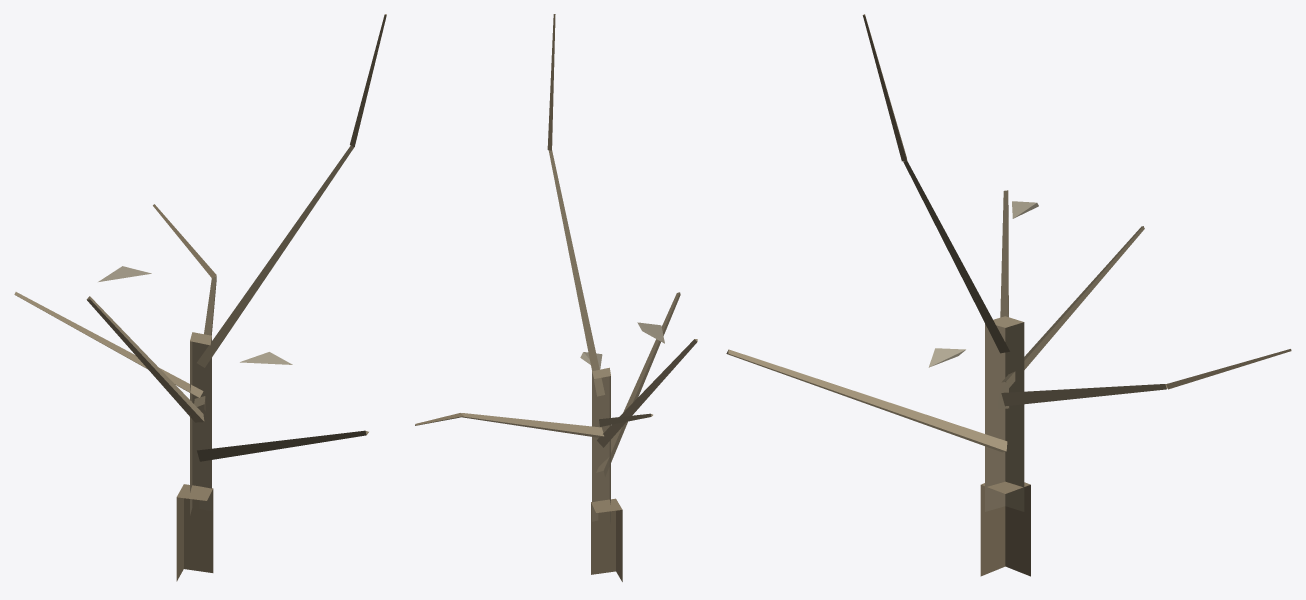
The model's file is shu.binglang@withered__winter.glb.
The picture shows the model from 3 angles, left to right: view 1: azimuth 30°, elevation 25°; view 2: azimuth 150°, elevation 25°; view 3: azimuth 270°, elevation 25°; orthographic projection. The views are drawn at different scales.
Parts seen in each view (by area): view 1: shu.binglang@withered__winter; view 2: shu.binglang@withered__winter; view 3: shu.binglang@withered__winter.
Boxes of the visible parts, bbox=[...] form: shu.binglang@withered__winter: bbox=[14, 14, 386, 581]; shu.binglang@withered__winter: bbox=[415, 14, 697, 581]; shu.binglang@withered__winter: bbox=[726, 14, 1291, 576].
Bounding box in the file's own units: 2.55 × 5.79 × 4.72.
